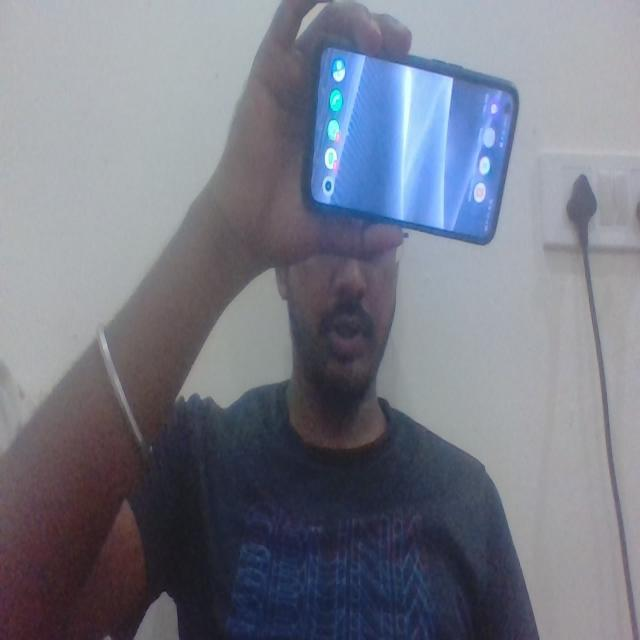Phone: (301, 36, 524, 248)
